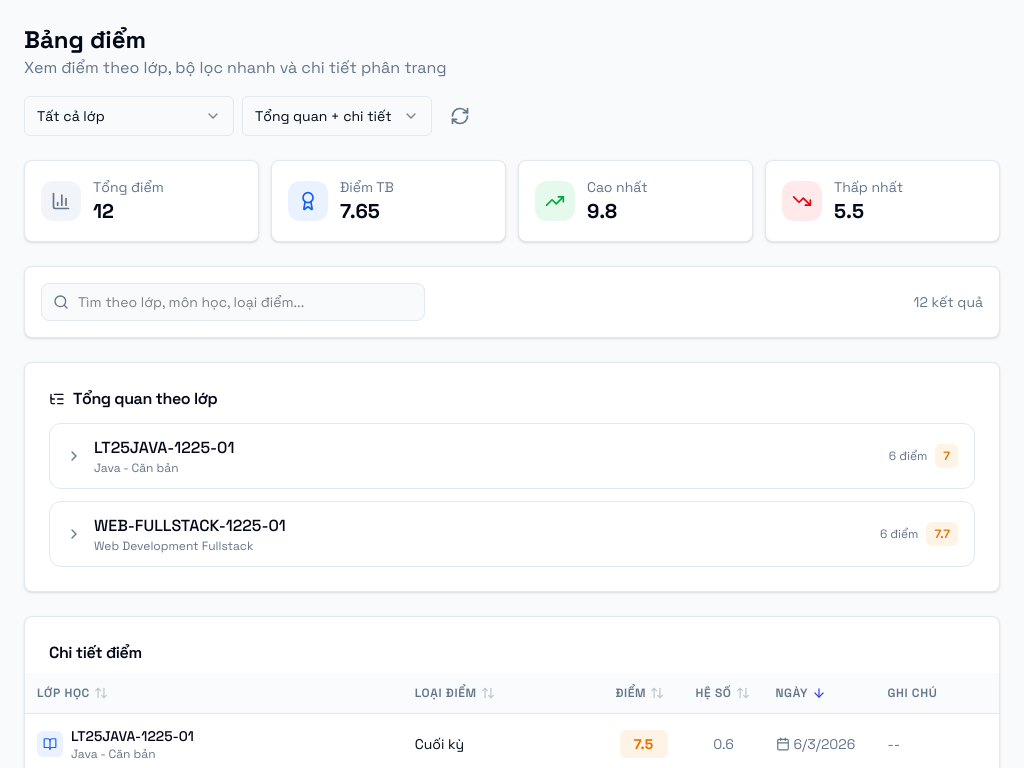
Test: StudentGrades page interactions › shows filtered empty-state and reset action recovers results
Type "khong-ton-tai" into the field with test id "grades-search-input" at x=233, y=302, box [41,283,425,321]
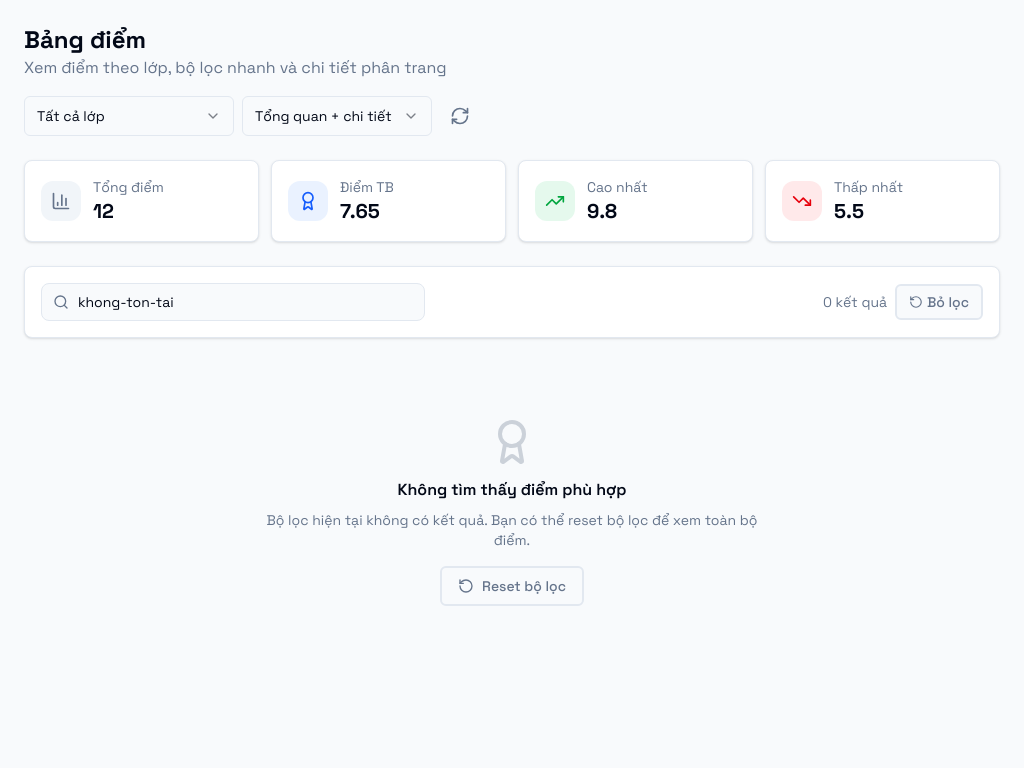
Expected: the text "Không tìm thấy điểm phù hợp" is shown, [398,478,626,502]
Click the button "Reset bộ lọc" at x=512, y=586, box [440,566,584,606]
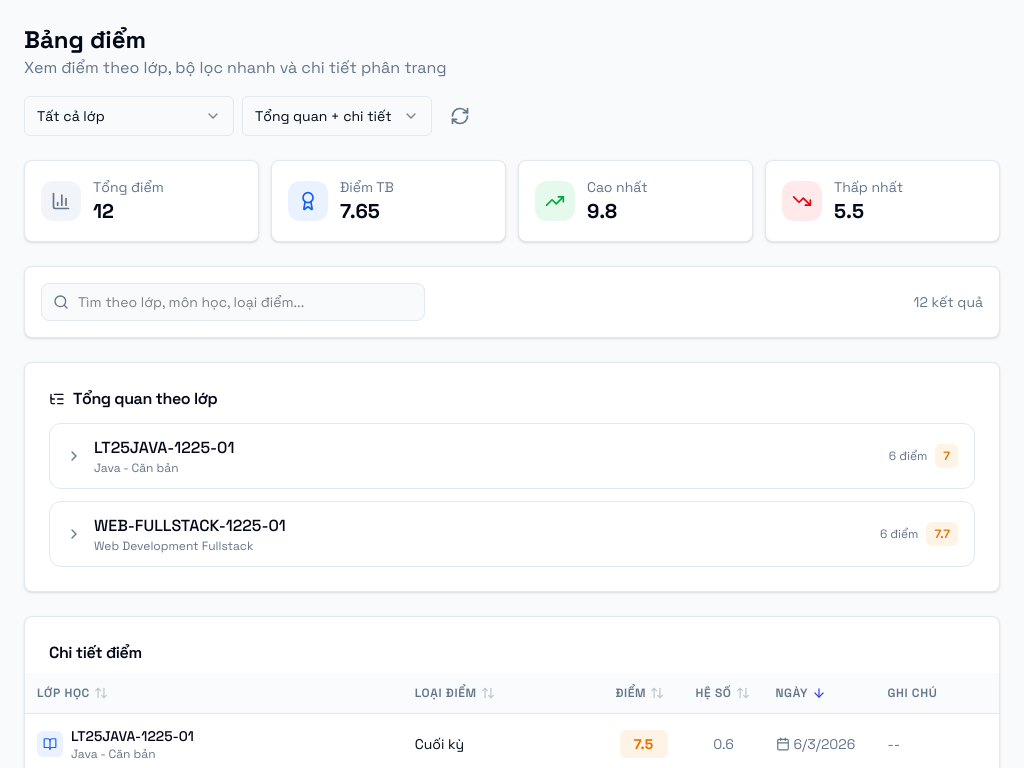
Expected: the text "12 kết quả" is shown, [914,292,983,312]
